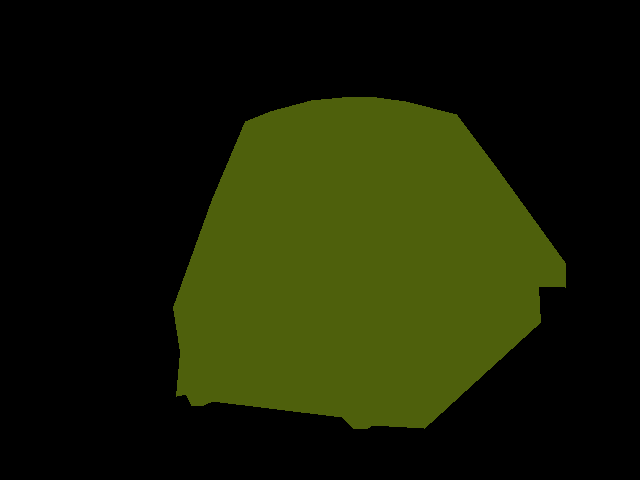Train: (173, 97, 565, 429)
